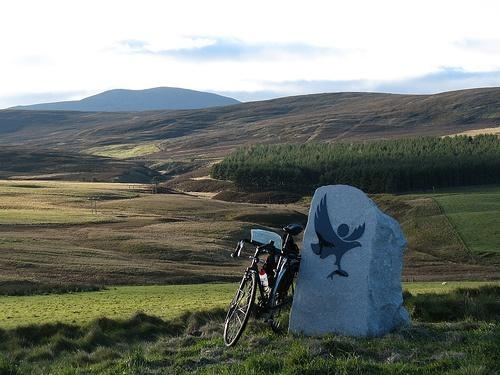bicycle: (222, 220, 299, 347)
